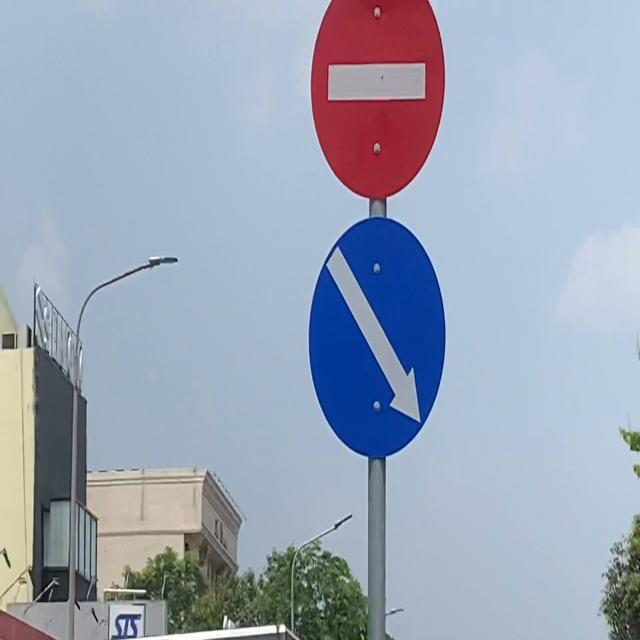Cam nguoc chieu: (309, 0, 446, 201)
Hieu lenh: (307, 215, 447, 460)
